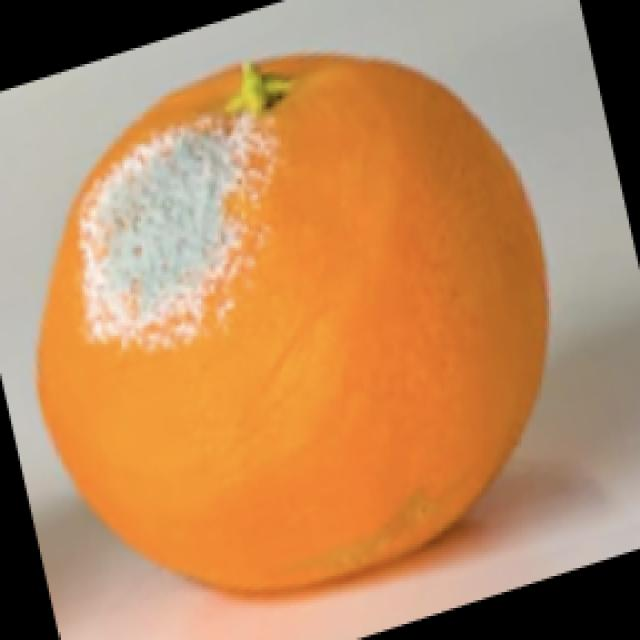sedikit_busuk: (44, 55, 547, 581)
